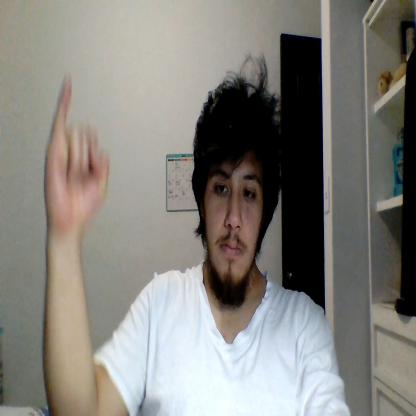I: (44, 72, 110, 228)
